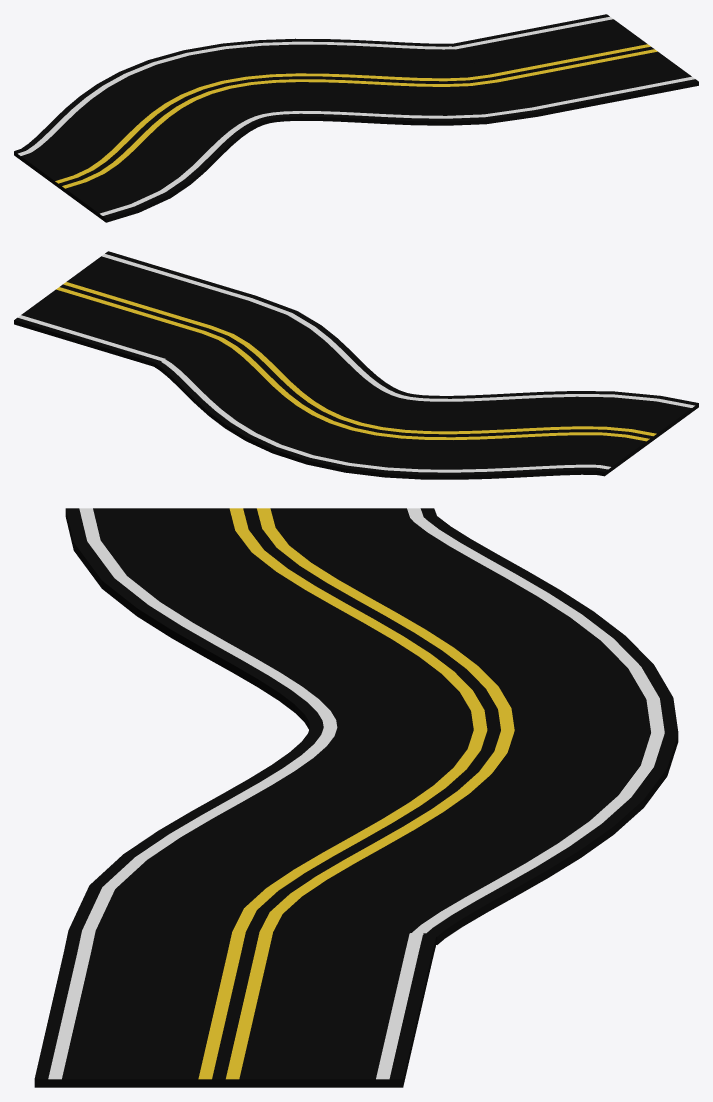
File: CurvyRoad.fbx
3 views of the same model, one above another, from view 1: azimuth 30°, elevation 25°; view 2: azimuth 150°, elevation 25°; view 3: azimuth 270°, elevation 25° (orthographic). The views are drawn at different scales.
Visible parts, largest first — view 1: Cube.001; view 2: Cube.001; view 3: Cube.001.
Boxes of the visible parts, box(x1,y1,x2,y2) form: Cube.001: box(14, 14, 698, 222); Cube.001: box(14, 251, 698, 479); Cube.001: box(34, 508, 678, 1087).
Bounding box in the file's own units: 54.83 × 0.371 × 26.13.
